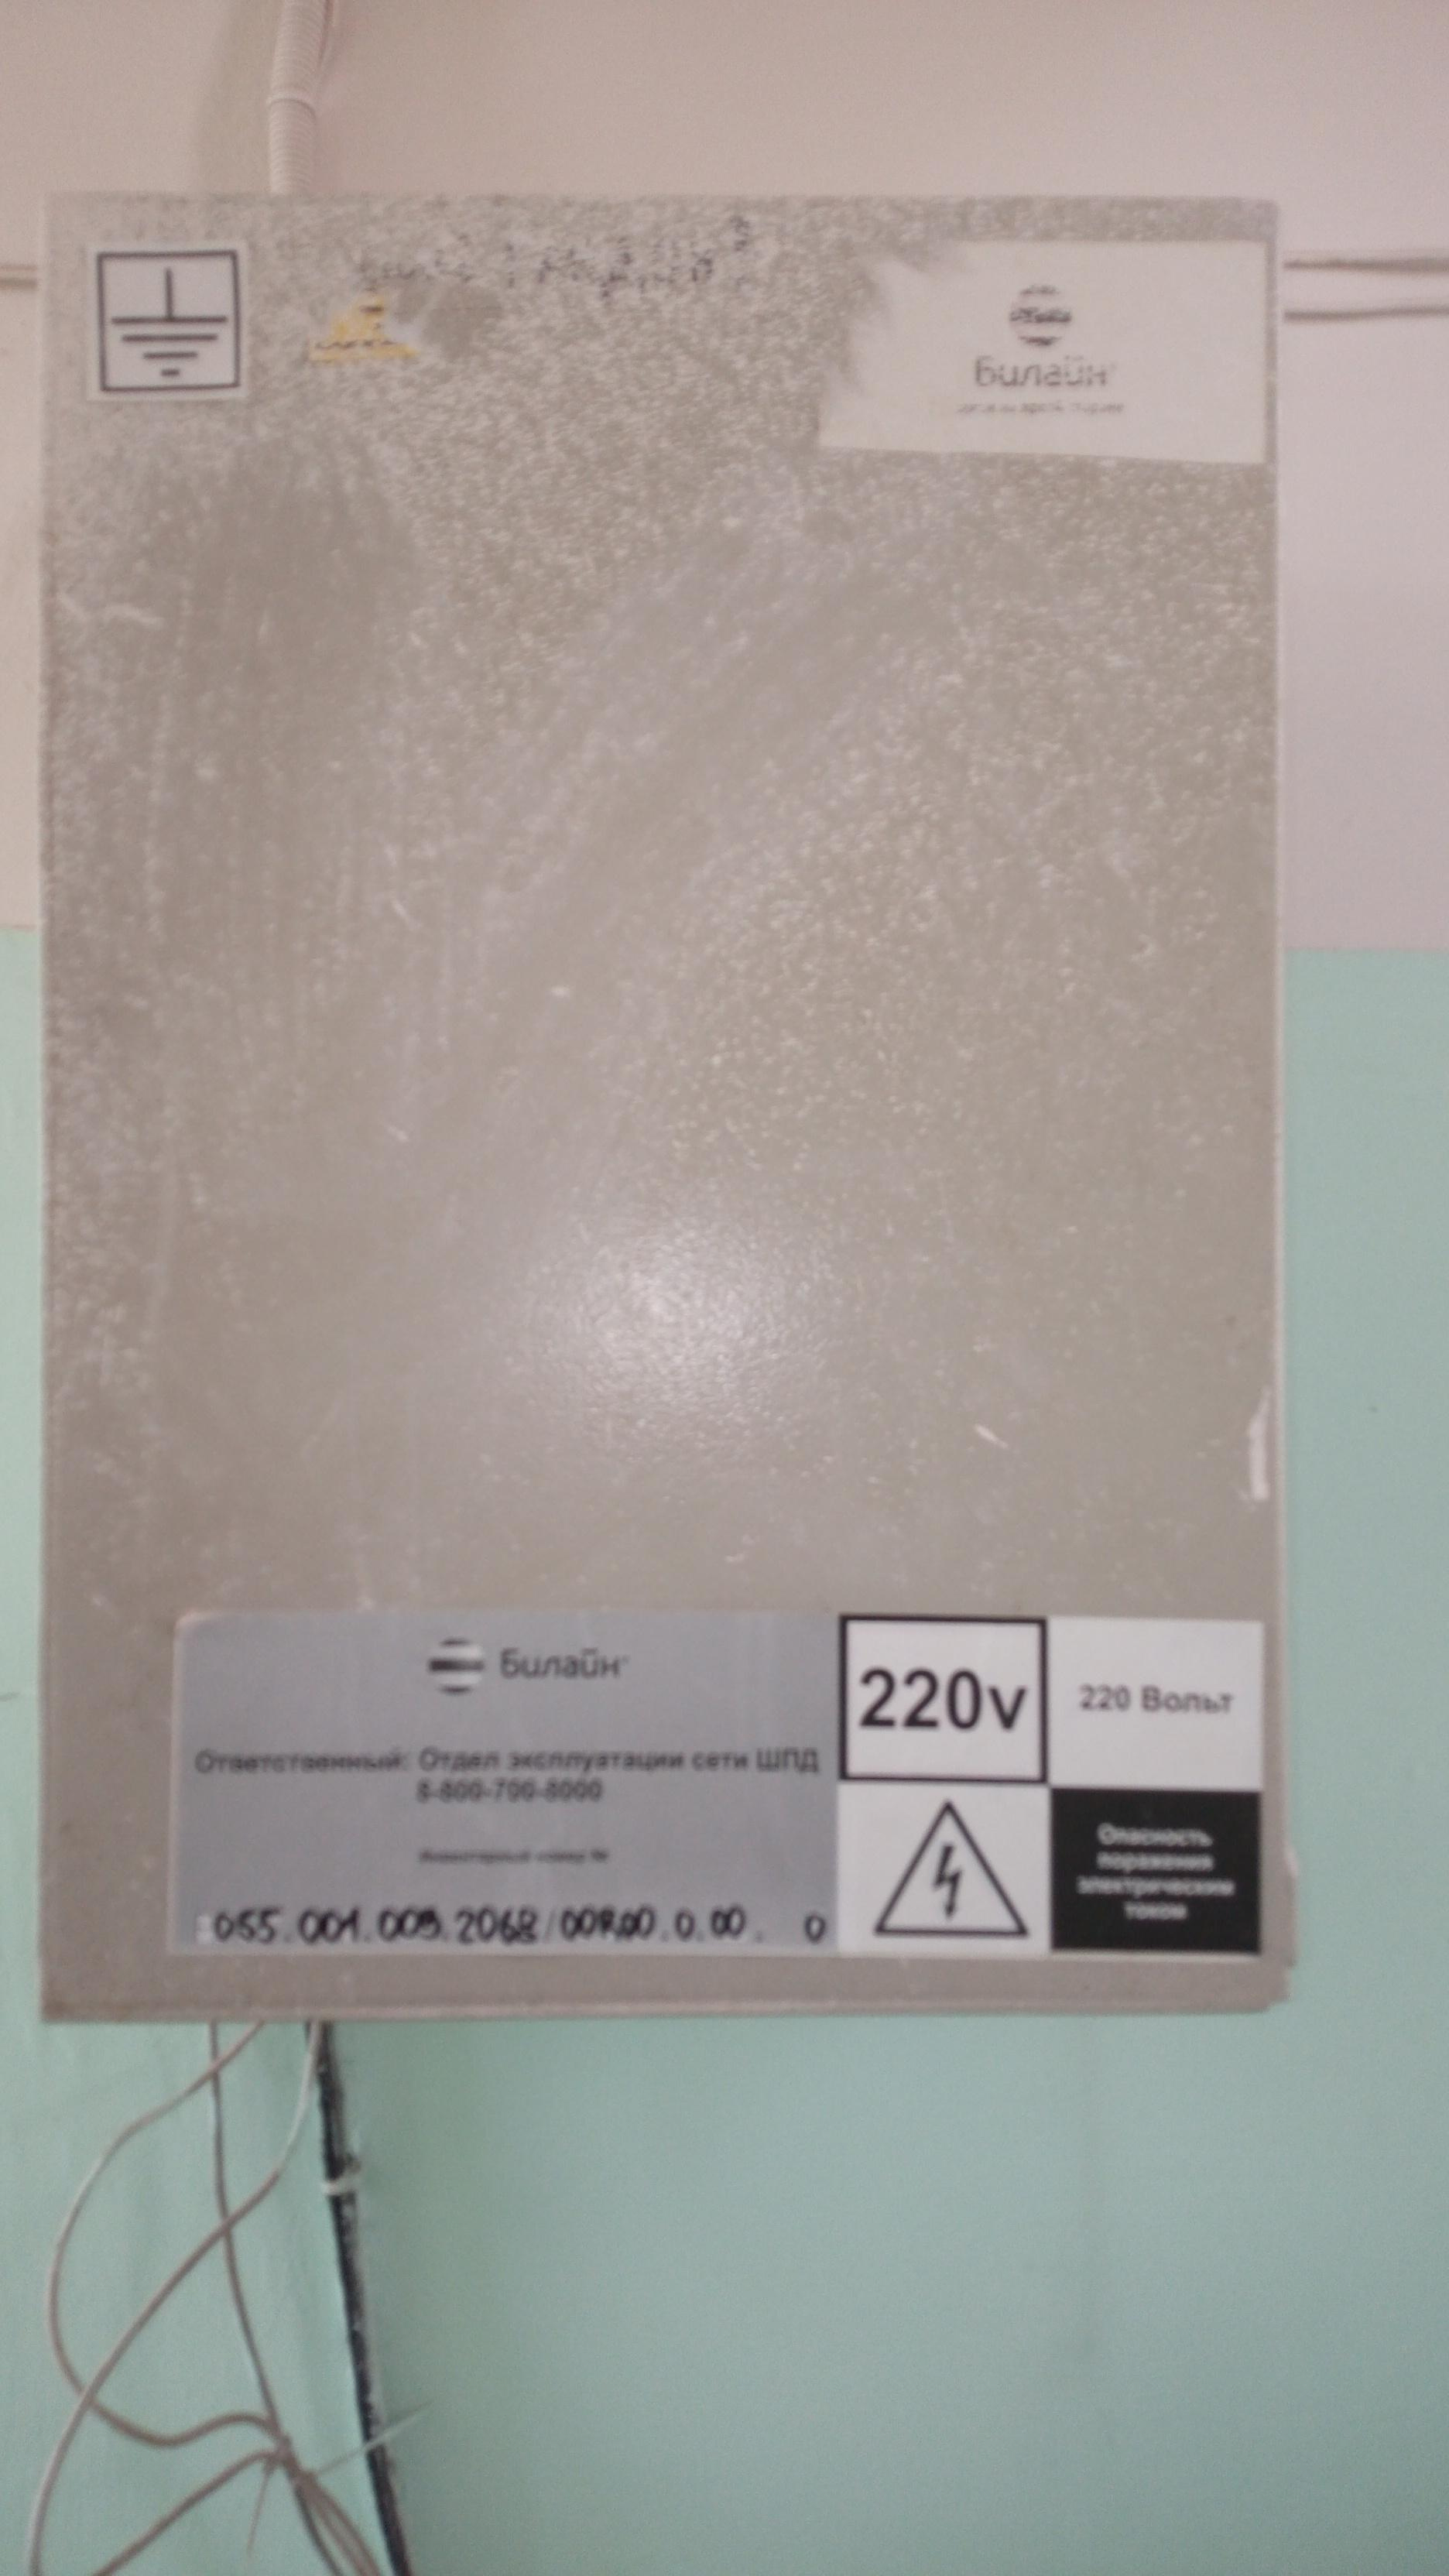sv-5: (27, 173, 1327, 2040)
